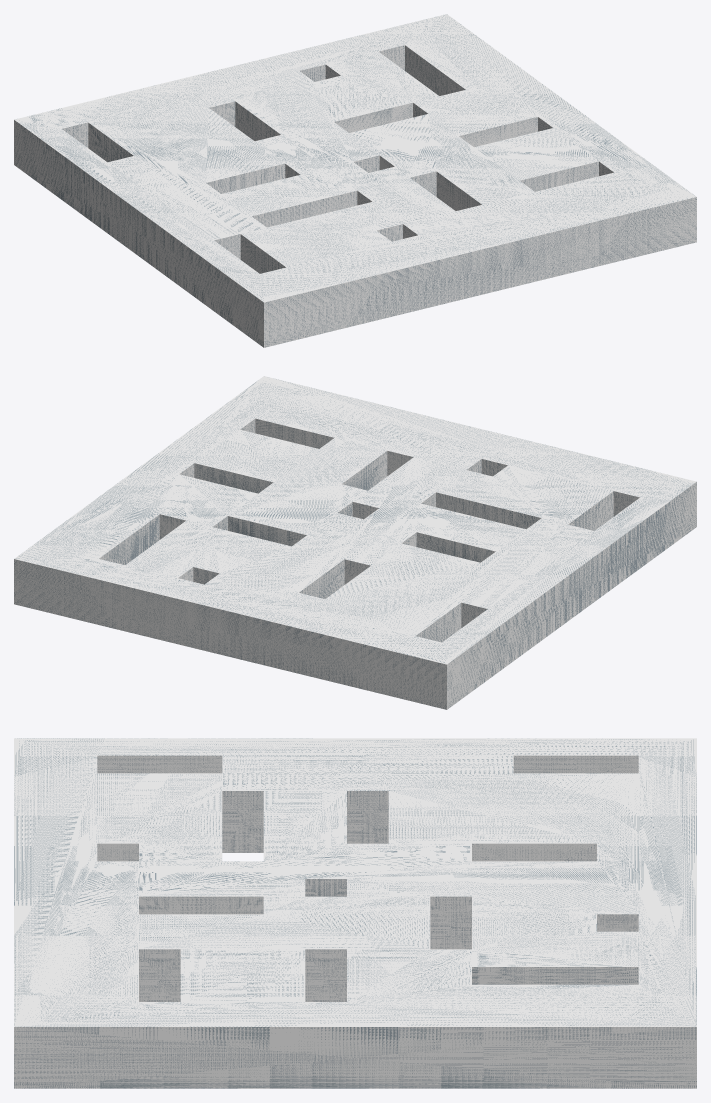
The picture shows the model from 3 angles, top to bottom: view 1: azimuth 30°, elevation 25°; view 2: azimuth 150°, elevation 25°; view 3: azimuth 270°, elevation 25°; orthographic projection. The views are drawn at different scales.
Parts seen in each view (by area): view 1: Model; view 2: Model; view 3: Model.
Boxes of the visible parts, <box> form: Model: <box>14,14,696,347</box>; Model: <box>14,376,696,709</box>; Model: <box>14,738,696,1088</box>.
Bounding box in the file's own units: 5 × 0.5 × 5.
